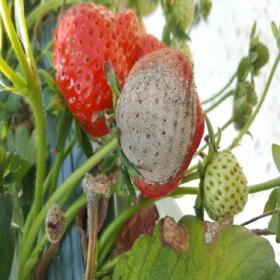Gray Mold: (115, 49, 201, 195)
